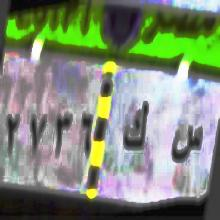2: (2, 101, 23, 160)
3: (54, 103, 74, 167)
6: (77, 111, 97, 156)
7: (29, 109, 47, 164)
kaaf: (122, 94, 154, 156)
seen: (170, 120, 204, 173)
